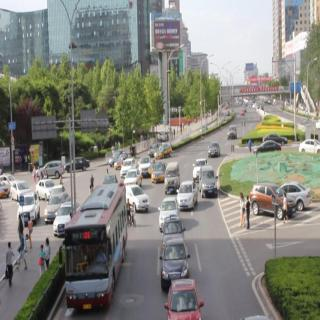BigCar: (65, 177, 130, 309)
Car: (249, 183, 291, 221), (167, 275, 201, 320), (161, 241, 191, 281), (16, 190, 38, 222), (35, 160, 65, 182), (55, 201, 76, 232), (125, 183, 150, 209), (199, 164, 219, 194), (44, 194, 64, 224), (177, 180, 198, 208), (159, 216, 183, 239), (159, 195, 180, 219), (164, 162, 180, 191), (36, 179, 56, 201), (66, 156, 88, 174), (300, 136, 319, 156), (254, 142, 280, 156), (207, 139, 223, 159), (124, 166, 141, 184), (154, 143, 172, 159), (152, 162, 164, 185), (139, 153, 152, 173)
